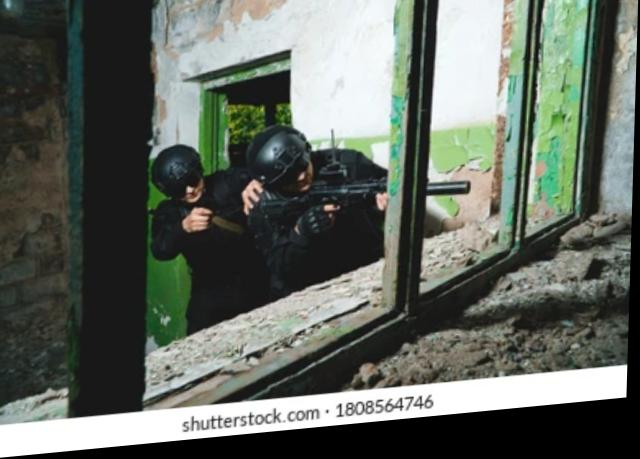other: (147, 141, 264, 322), (257, 130, 385, 277)
